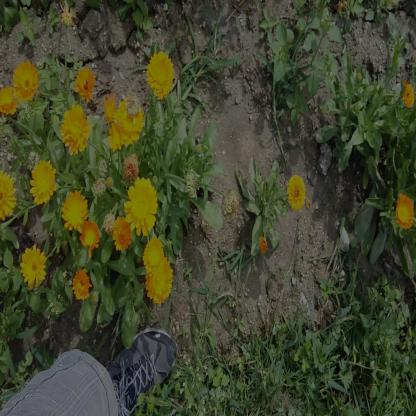marigold: (126, 180, 155, 232), (145, 53, 173, 97), (62, 106, 88, 152), (143, 260, 170, 304), (142, 235, 167, 276), (31, 160, 55, 202), (20, 248, 44, 288), (60, 191, 84, 231), (116, 101, 139, 141), (13, 62, 37, 100), (73, 66, 96, 104), (394, 193, 415, 233), (0, 175, 16, 219), (0, 85, 20, 119), (287, 175, 306, 209), (71, 269, 91, 300), (112, 218, 130, 249), (79, 221, 97, 249), (402, 78, 414, 108)
